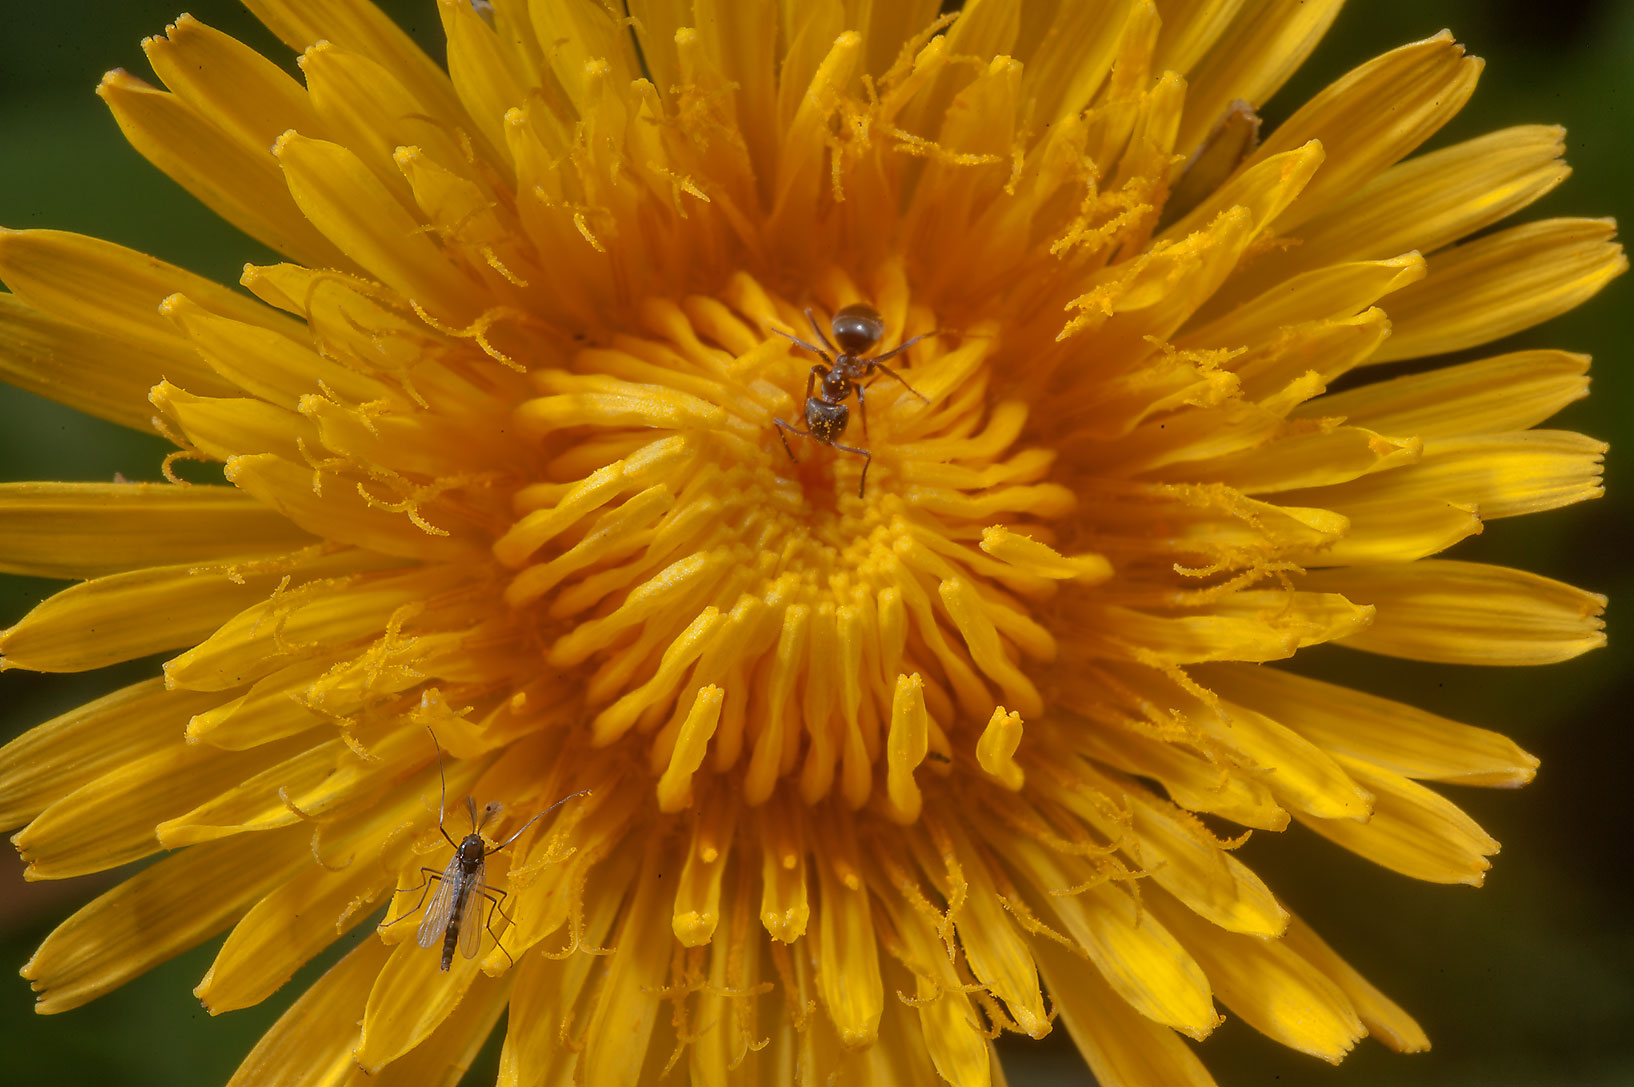dandelion: (76, 63, 1519, 1087)
